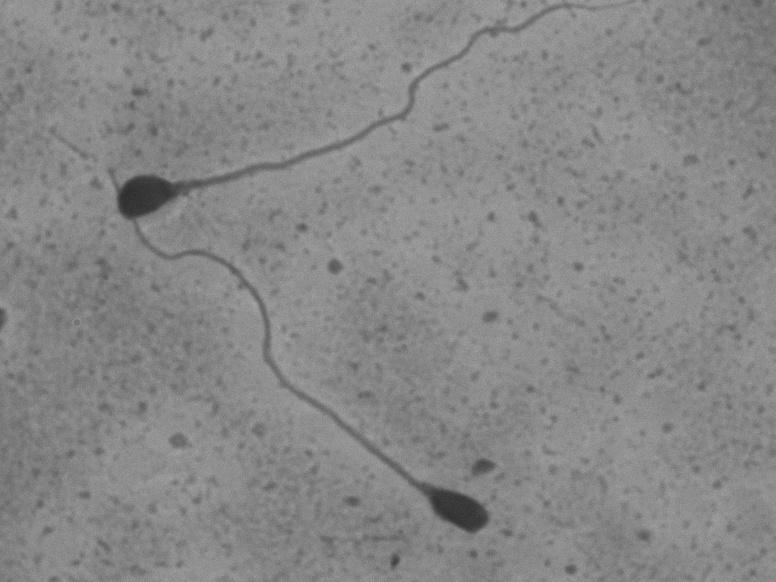Abnormal: (116, 217, 497, 551), (109, 2, 587, 223)
